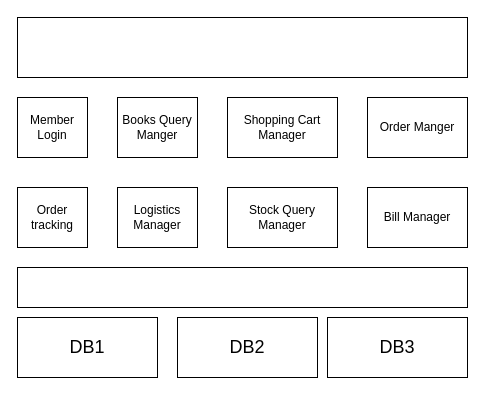
Image size: 485x395. Some labels were removed from this diagram. Here are the shapes that lost their labels. From the top down, the centre of each, then its label:
the point at 242,47: Web browser Interface
the point at 242,287: Database connection pool
